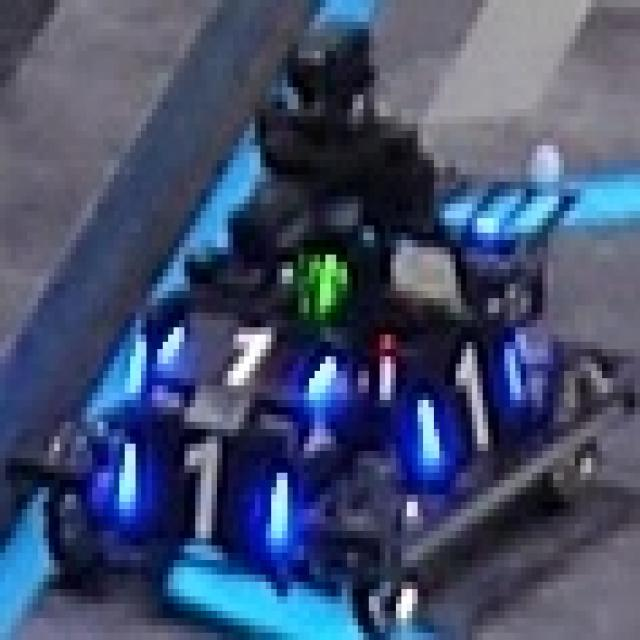B1: (103, 422, 304, 545), (146, 298, 336, 415), (407, 320, 531, 465)
